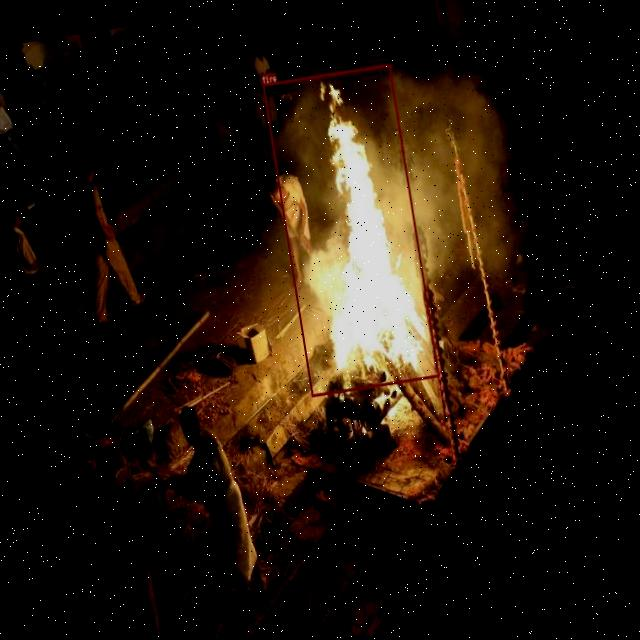fire: (262, 64, 440, 396)
